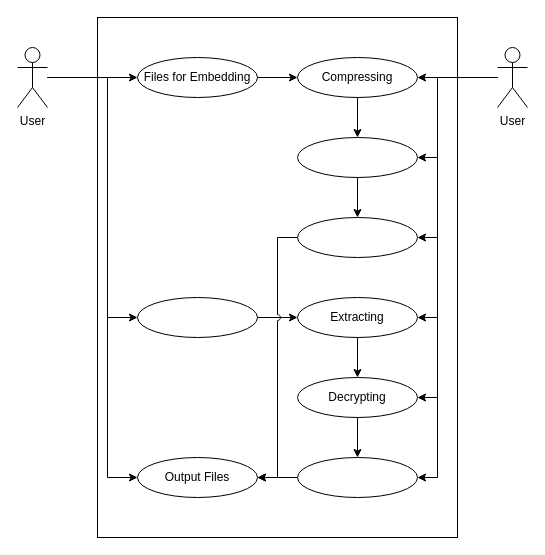
Image size: 545x555. Some labels were removed from this diagram. The centre of each missing label's shape, as x and y in pixels:
Decompressing: the point at 357,477
Embedding: the point at 357,237
Encrypting: the point at 357,157
Files for Extracting: the point at 197,317
